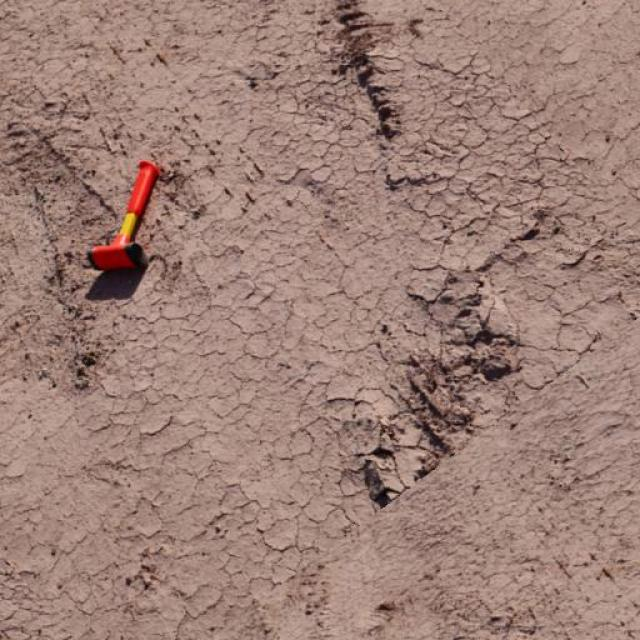mallet: (90, 158, 162, 272)
